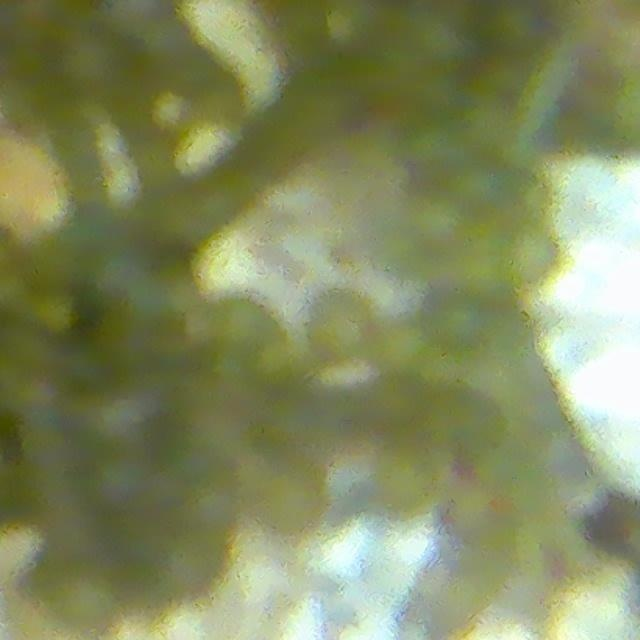SeaGrape: (58, 28, 125, 93), (315, 294, 366, 368), (27, 286, 77, 337), (0, 268, 30, 318)
